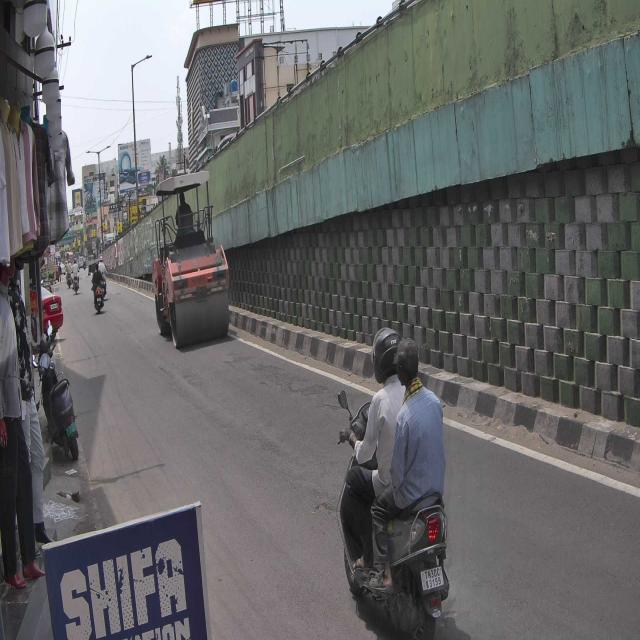double_rider: (338, 325, 453, 640)
